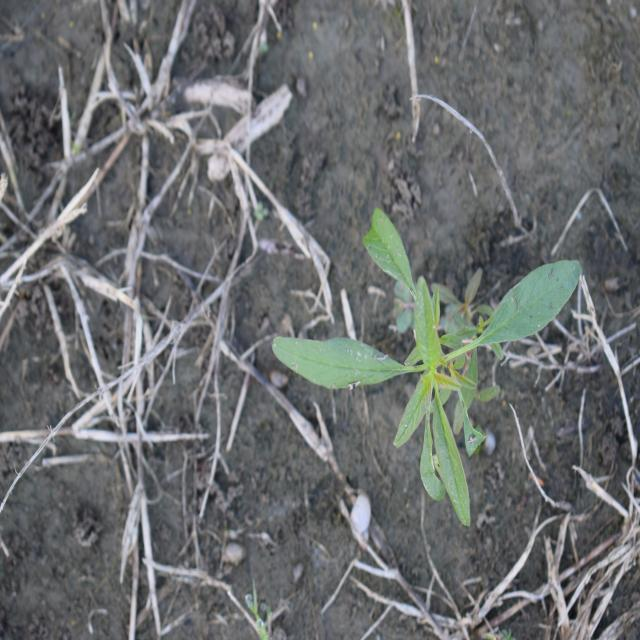Waterhemp: (271, 206, 584, 530)
